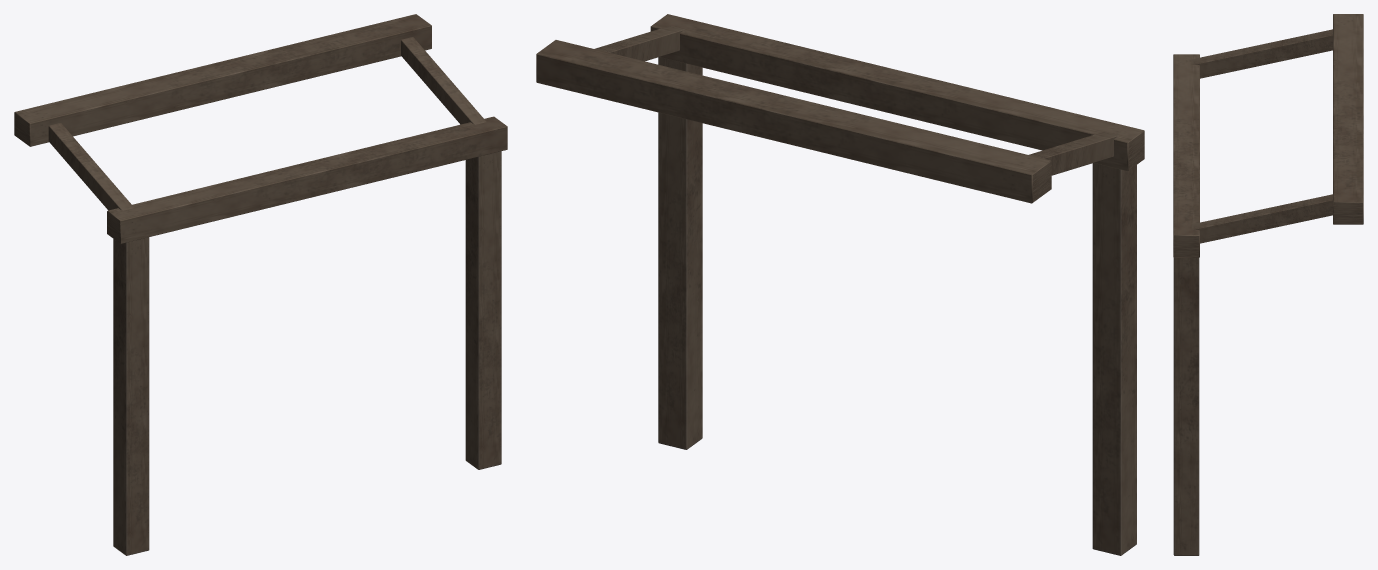
The model's file is BW_Merchant01_CanopyTimber.fbx.
The picture shows the model from 3 angles, left to right: view 1: azimuth 30°, elevation 25°; view 2: azimuth 150°, elevation 25°; view 3: azimuth 270°, elevation 25°; orthographic projection. The views are drawn at different scales.
Parts seen in each view (by area): view 1: BW_Merchant01_CanopyTimber; view 2: BW_Merchant01_CanopyTimber; view 3: BW_Merchant01_CanopyTimber.
Part boxes in pixels (x1,y1,x2,y2): BW_Merchant01_CanopyTimber: [14, 14, 507, 555]; BW_Merchant01_CanopyTimber: [536, 14, 1144, 555]; BW_Merchant01_CanopyTimber: [1173, 14, 1363, 555].
Size of the model in its own units: 3.2 by 2.85 by 1.37.
